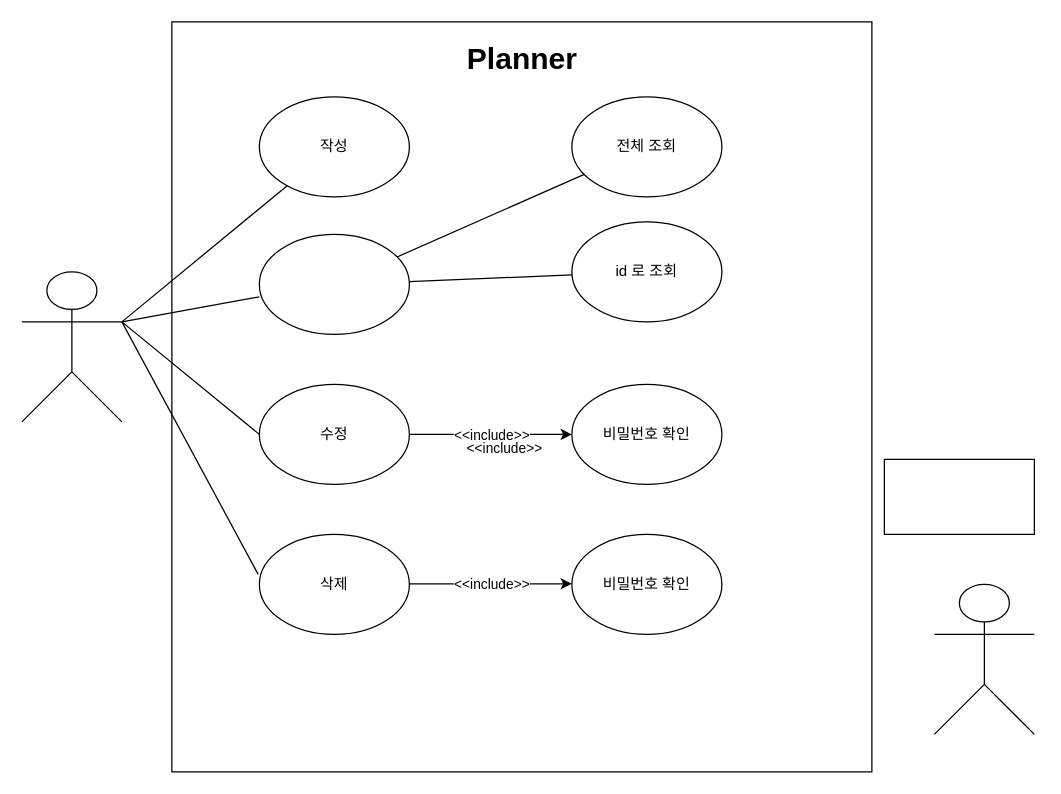
The diagram is 1061 pixels wide and 794 high, and some of its shapes have lost their labels. Here are the shapes that lost their labels. From the top down, the centre of each, then its label:
At (333,283): "조회".
At (71,346): "Primary Actor".
At (958,496): "<<actor>>".
At (983,658): "Secondary Actor".
